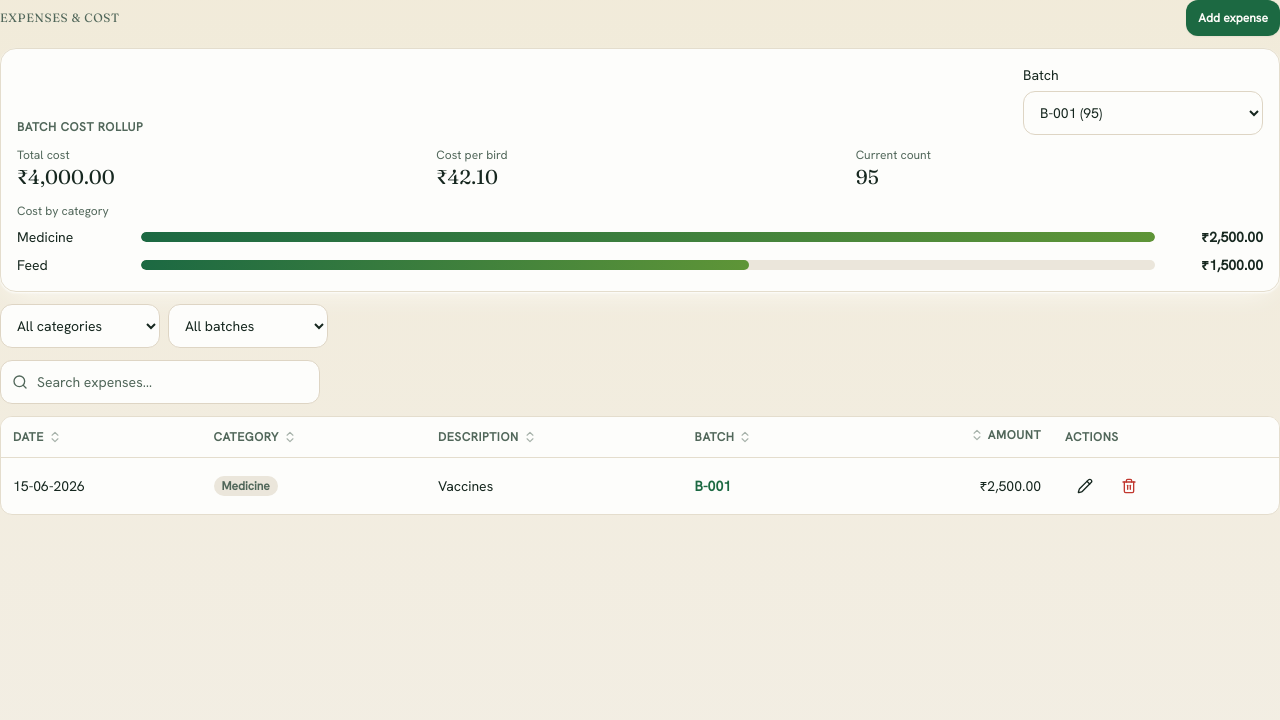
Test: ExpensesPanel (11.6c conversion) › adds an expense through the dialog with an integer-paise string
Expected: the text "Vaccines" is shown, [426, 457, 683, 514]
Click the button "Add expense": (1233, 18) [1186, 0, 1279, 36]
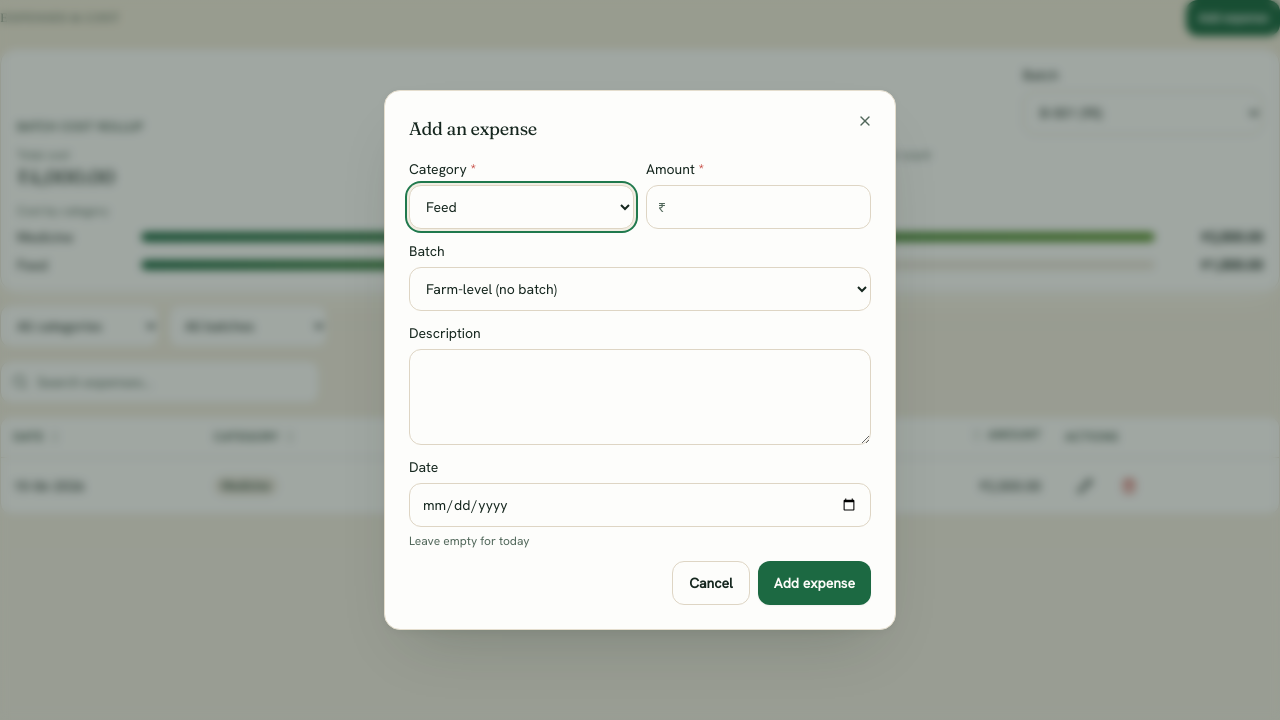
In the field labelled "Amount *": (758, 207) [646, 185, 871, 229], type "150"
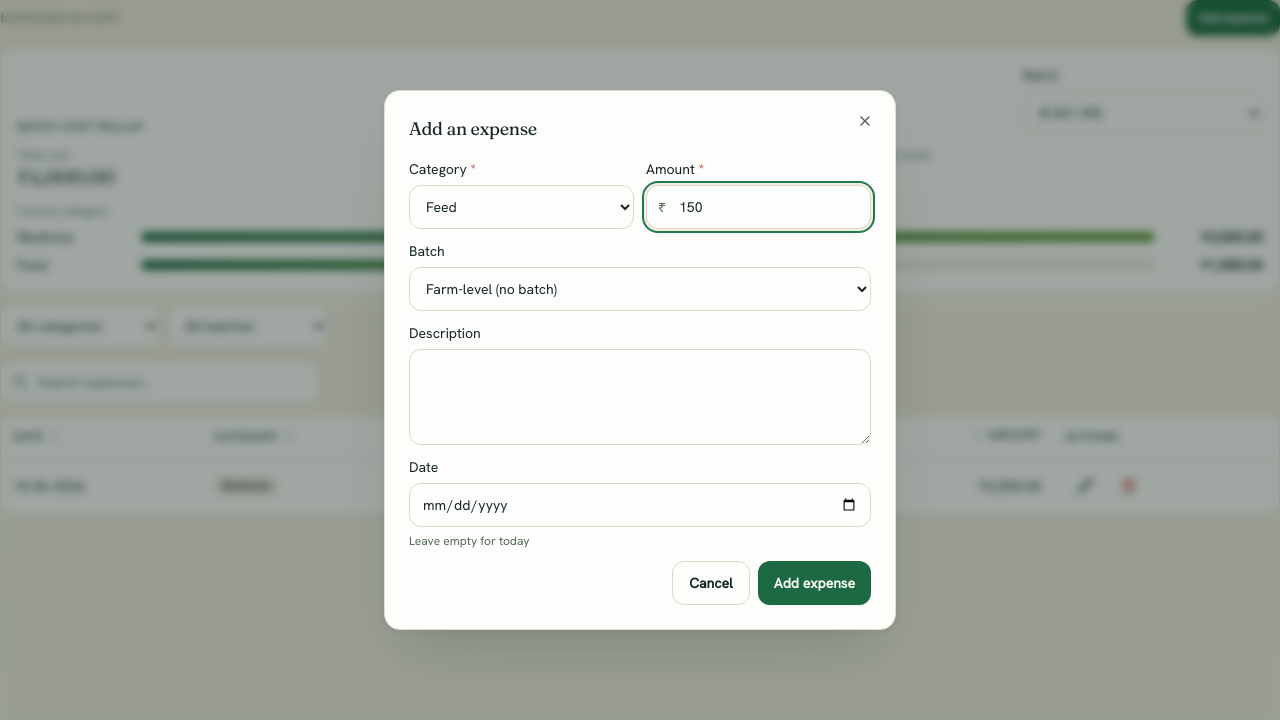
In the text box labelled "Description": (640, 397) [409, 349, 871, 445], type "Bulk feed"
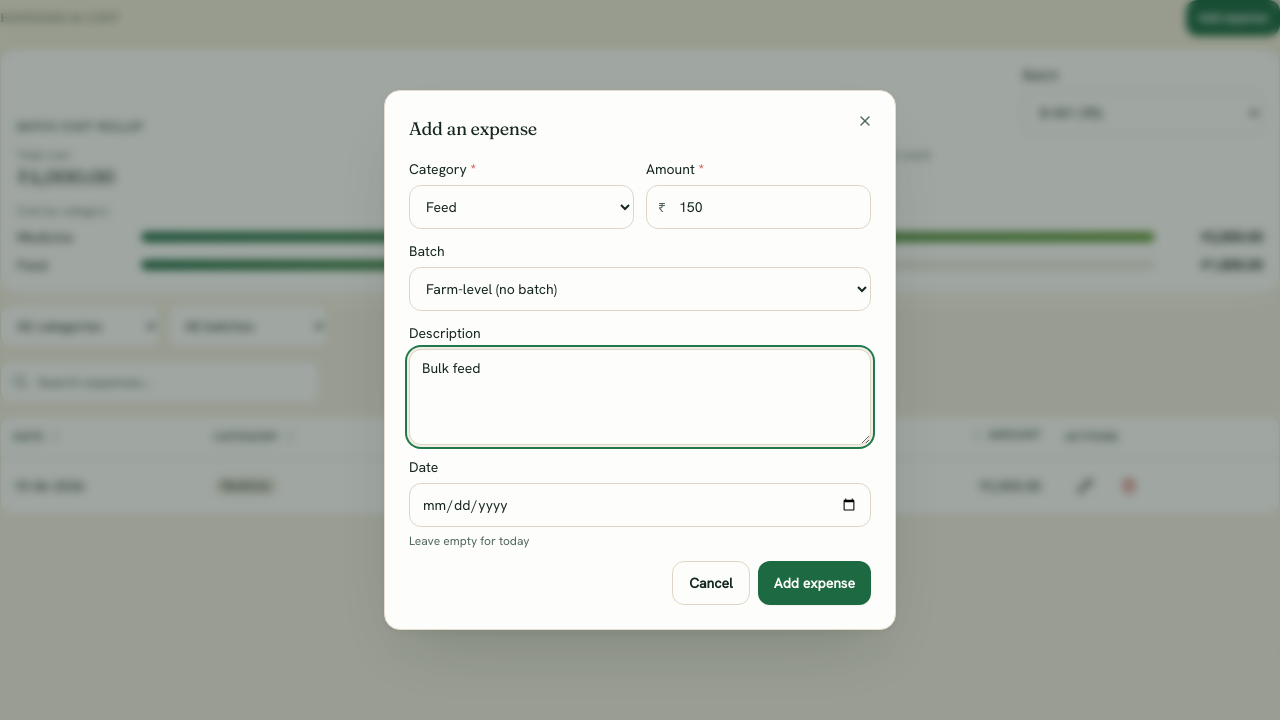
Click the button "Add expense": (814, 583) [758, 561, 871, 605]
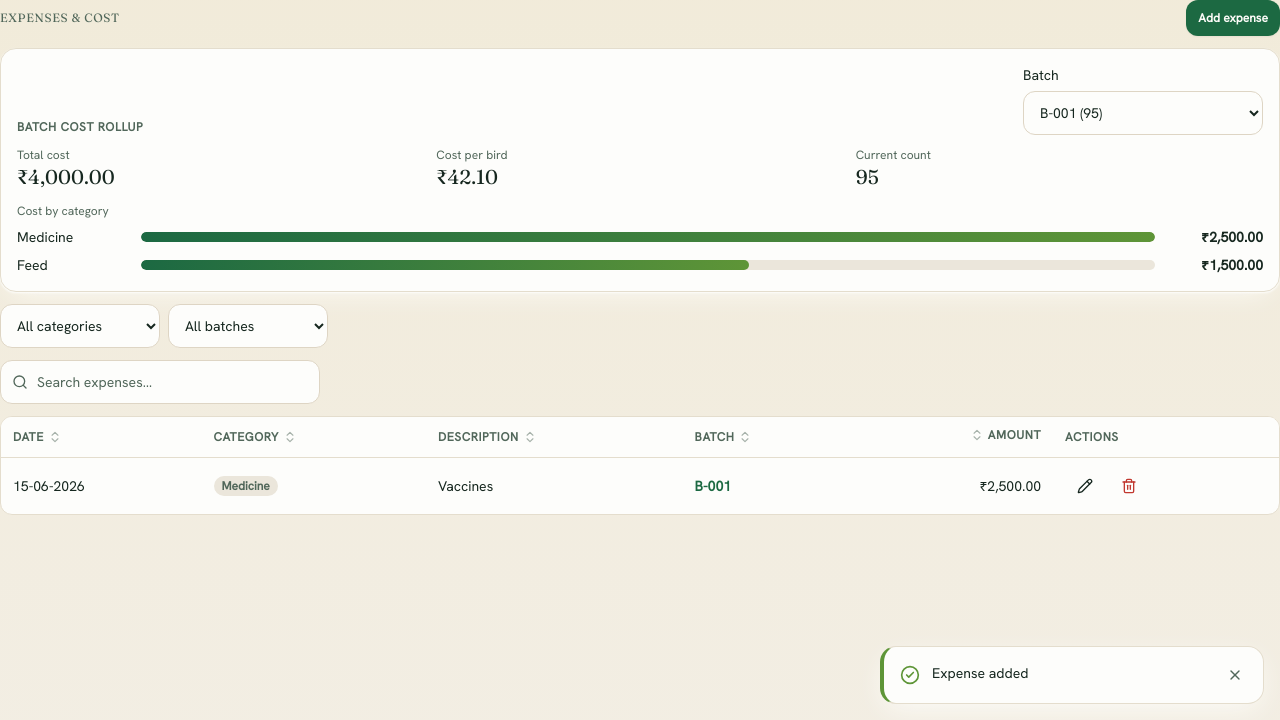
Expected: the text "Expense added" is shown, [932, 664, 1028, 682]
